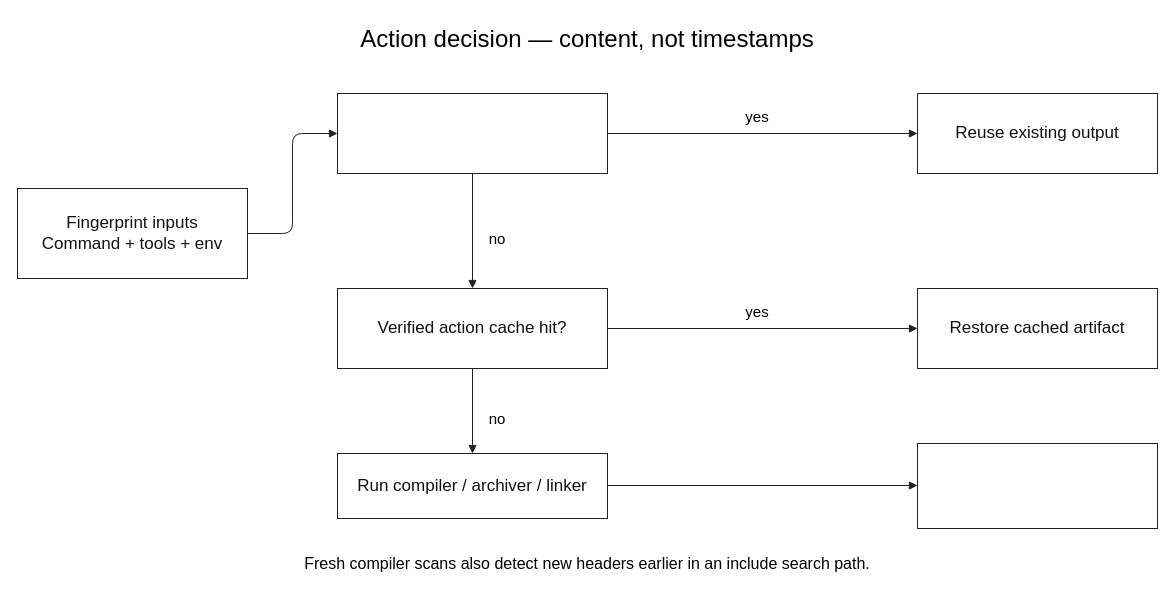
Some shapes in this 1175 by 589 pixel diagram are drawn without their labels. The centre of each missing label's shape, as x and y in pixels:
"Output + prior state match?" belongs at point 472,133.
"Recheck input content Atomically publish output Write cache + state" belongs at point 1037,485.
